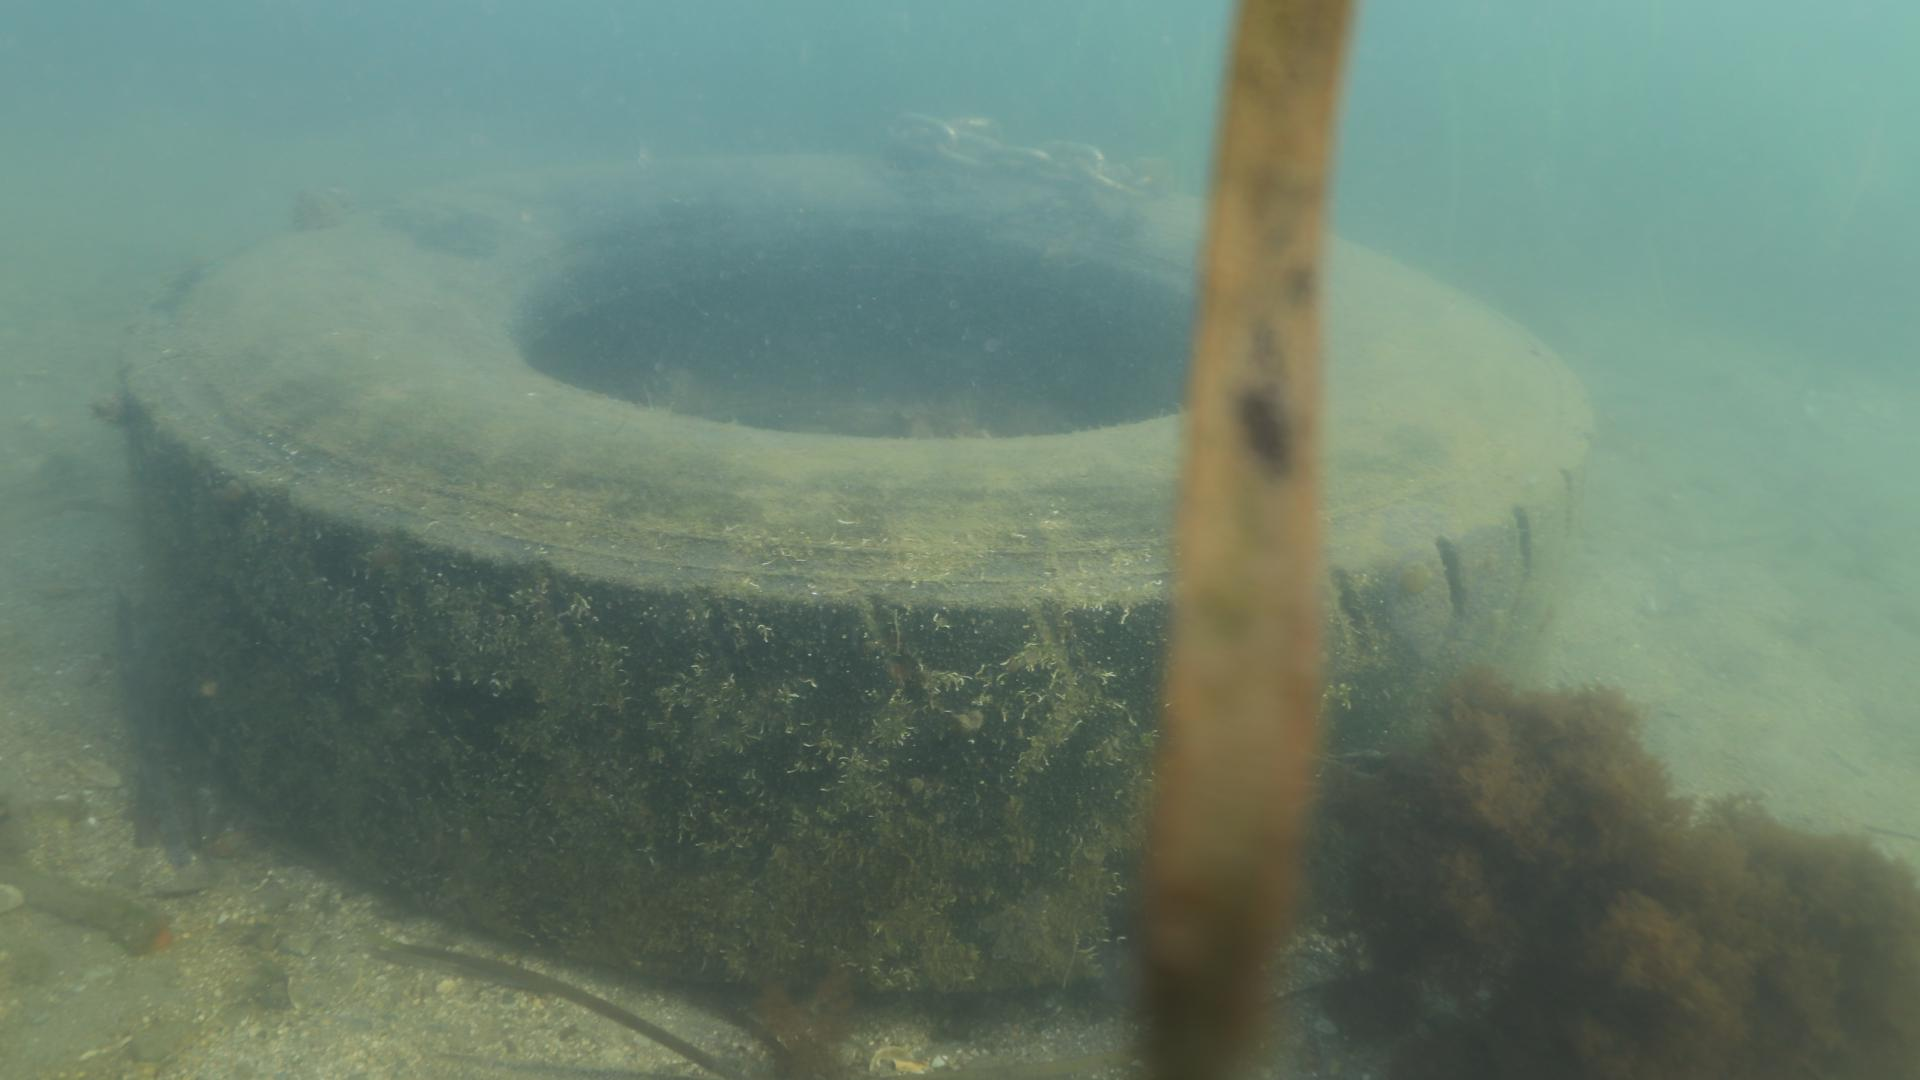tire: (116, 153, 1590, 993)
